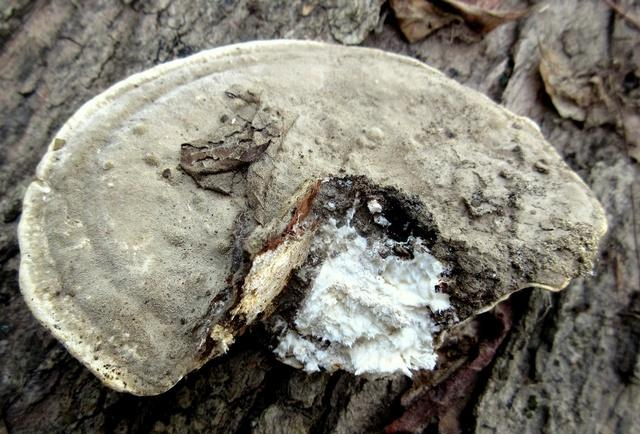poisonous_mushroom: (16, 37, 609, 397)
